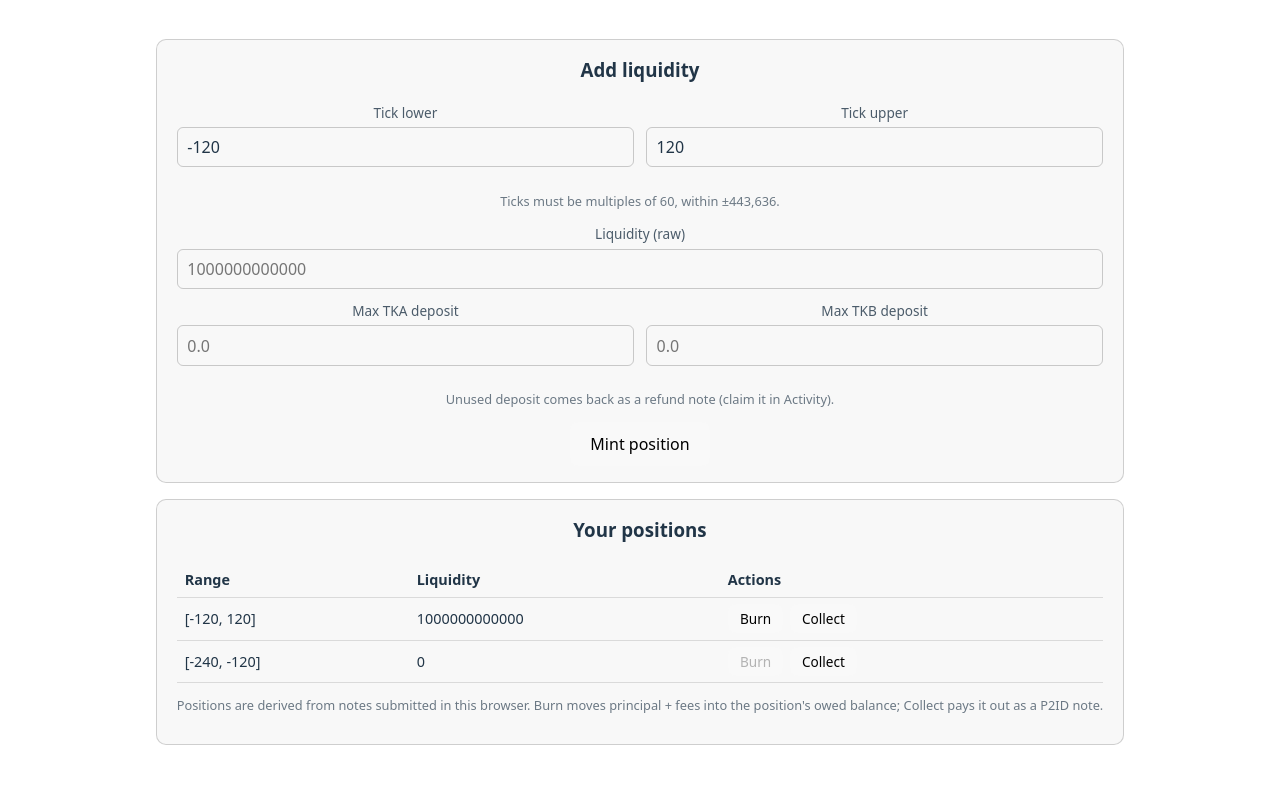
Test: Positions mint form › rejects ticks outside ±443,636
Replace the text in the field labelled "Tick upper" with "443700": x=875, y=147 [646,127,1103,167]
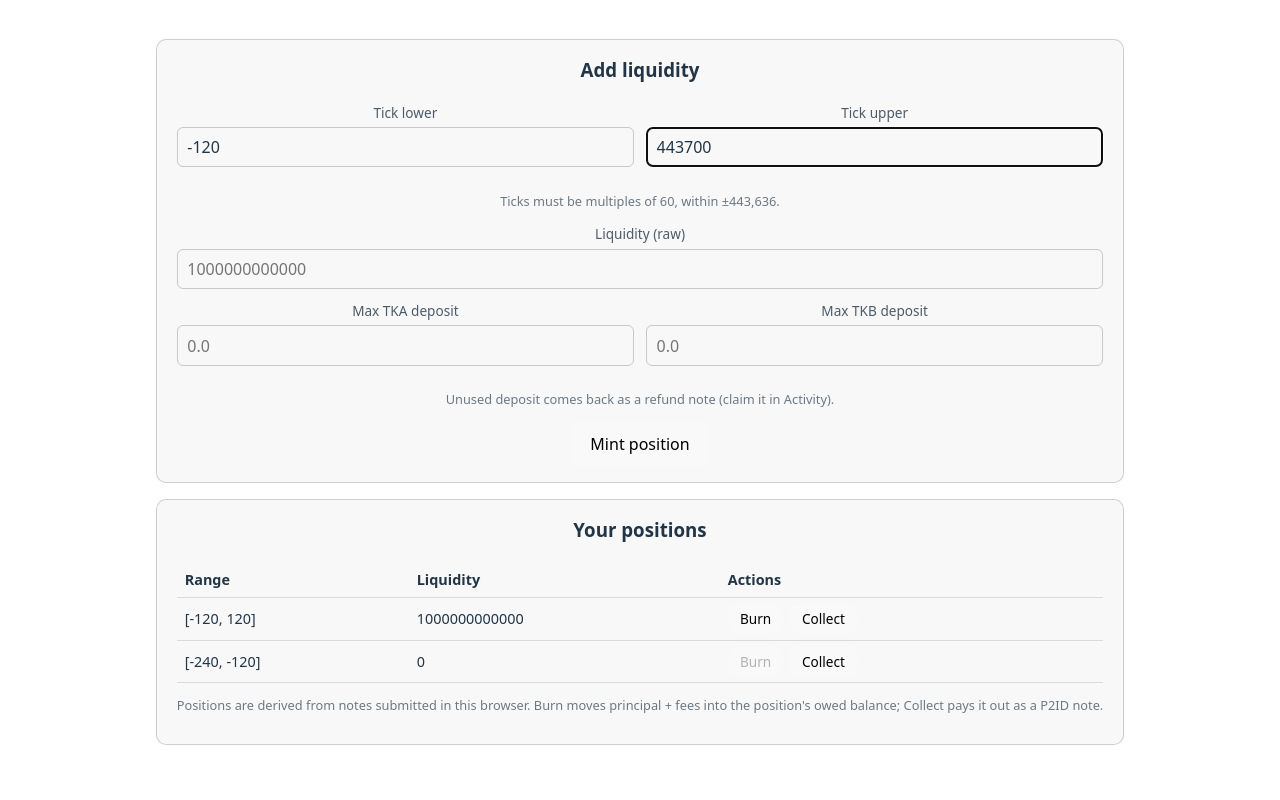
In the field labelled "Liquidity (raw)": x=640, y=269 [177,248,1103,289], type "1000"
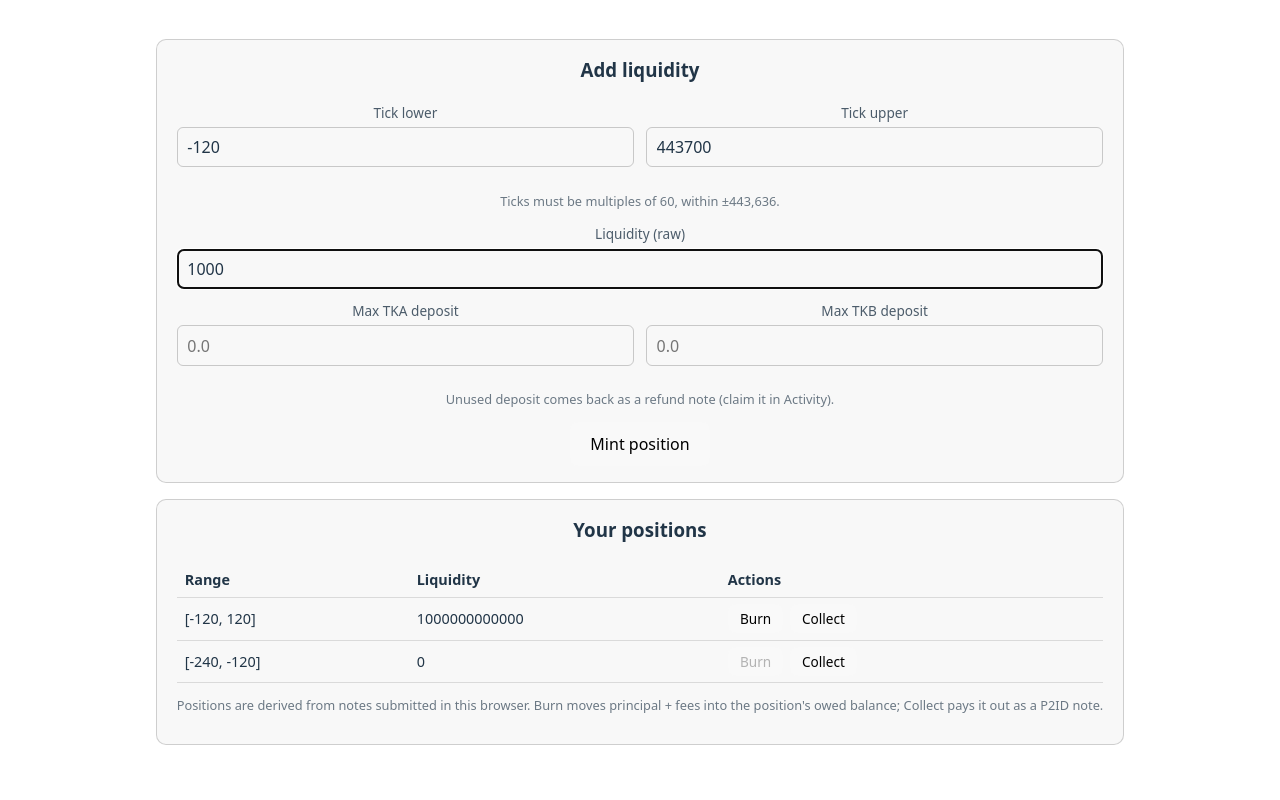
In the field labelled "Max TKA deposit": x=405, y=346 [177,325,634,366], type "1"
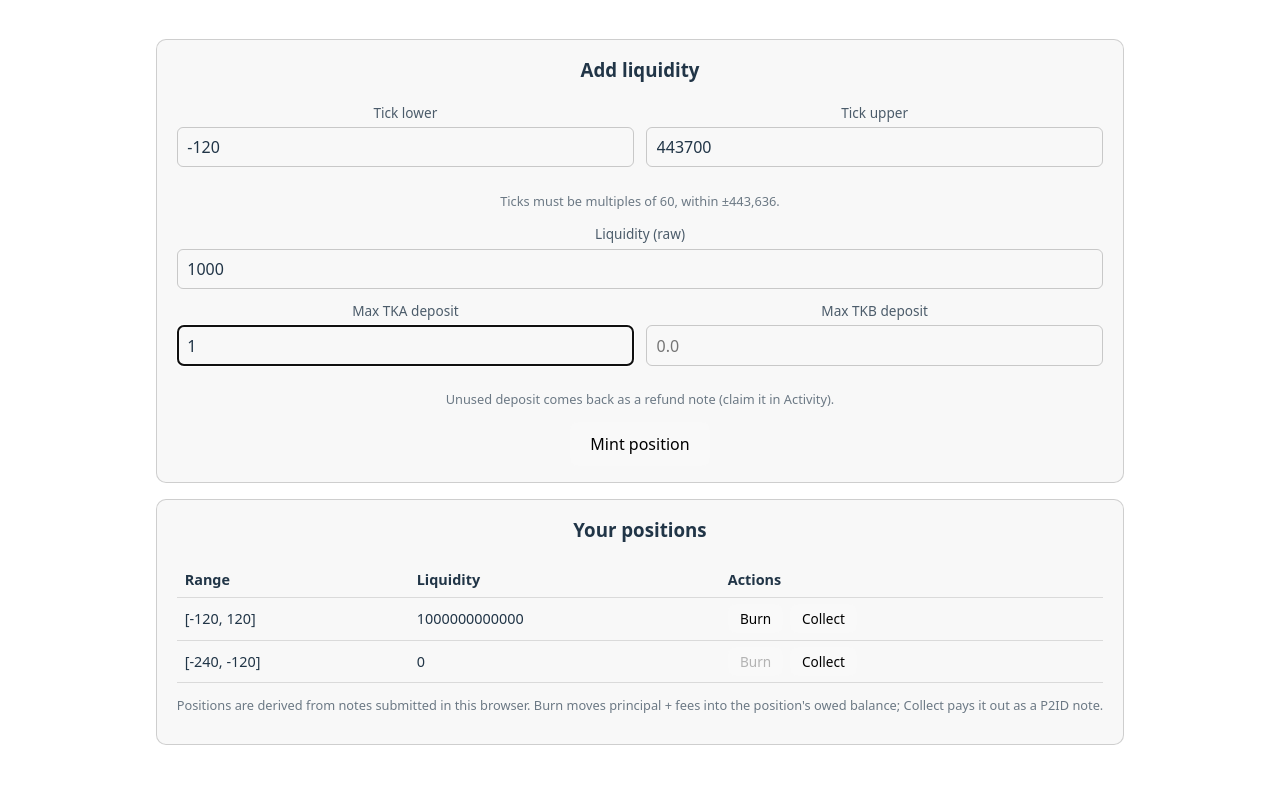
Click the button "Mint position": x=640, y=444 [570,422,710,466]
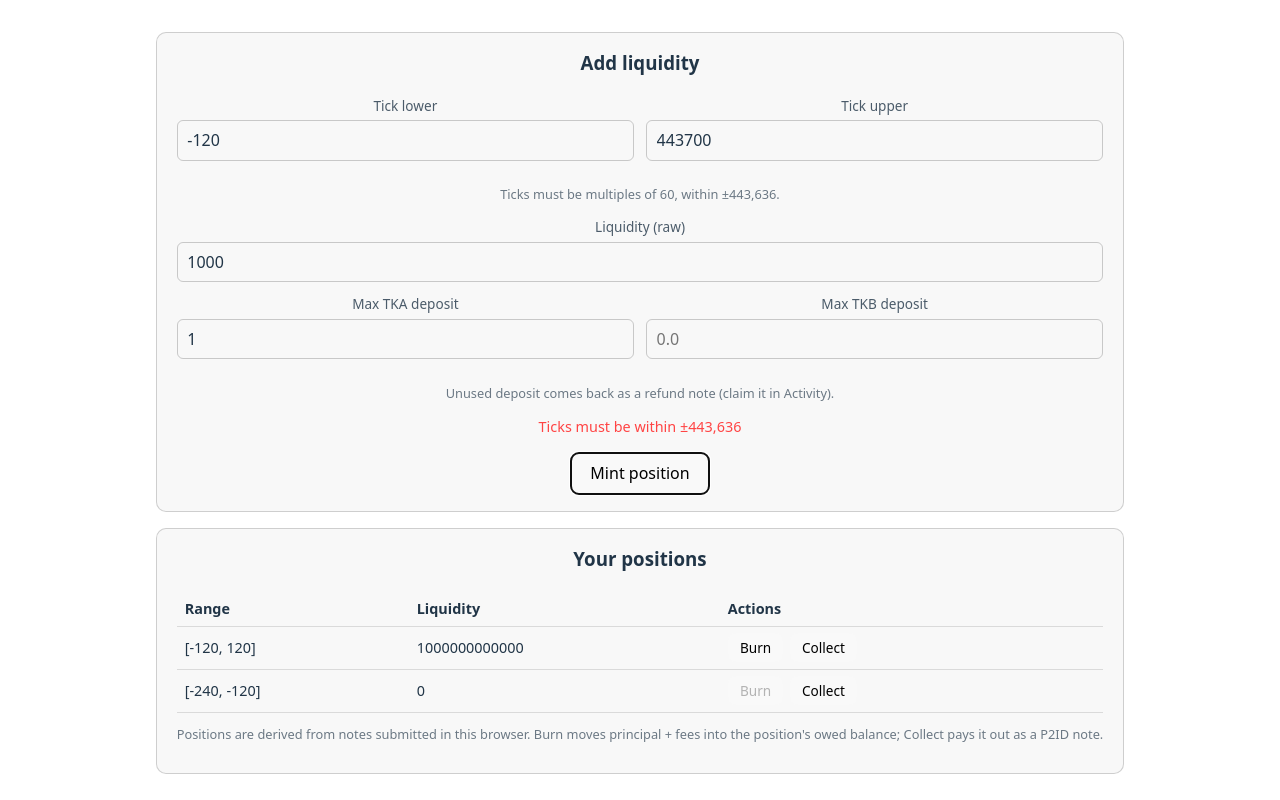
Check: the message shows "443,636", box [539,417,741,436]
